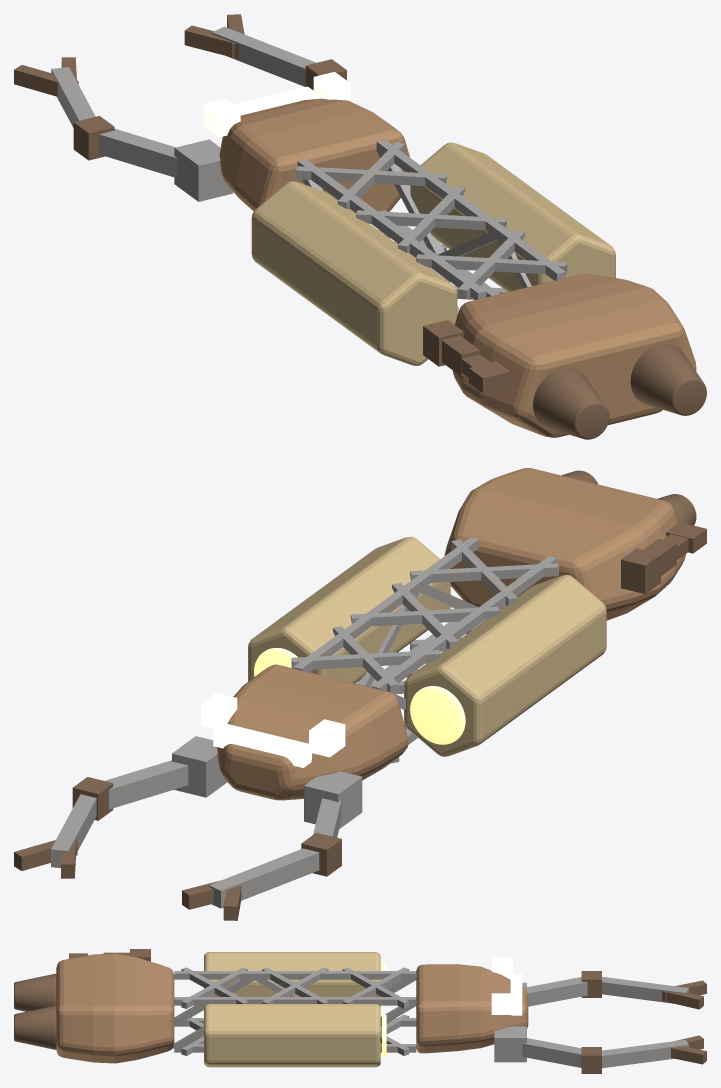
File: terra-nexum-harvester.glb
3 renders of one model, top to bottom at view 1: azimuth 30°, elevation 25°; view 2: azimuth 150°, elevation 25°; view 3: azimuth 270°, elevation 25°, orthographic. The views are drawn at different scales.
Parts seen in each view (by area): view 1: hull.001, Cylinder, hull, Cylinder.002, Cone.001, Cone, Cube.015, Cube.017, Cube.003, Cube.004, Cube.012, Cube.021 (+16 smaller); view 2: hull.001, Cylinder, hull, Cylinder.002, Cube.006, Cylinder.001, Cube.017, Cube.015, Cube.010, Cube.003, Cube.009, Cube (+15 smaller); view 3: hull.001, Cylinder.002, hull, Cylinder, Cube.017, Cone.001, Cube.015, Cube.012, Cone, Cube.006, Cube.004, Cube.010 (+22 smaller).
Boxes of the visible parts, box(x1,y1,x2,y2) form: hull.001: box(452, 274, 696, 437); Cylinder: box(251, 181, 457, 365); hull: box(219, 98, 410, 213); Cylinder.002: box(410, 142, 615, 291); Cone.001: box(630, 344, 706, 415); Cone: box(533, 368, 609, 439); Cube.015: box(376, 139, 565, 280); Cube.017: box(297, 159, 486, 299); Cube.003: box(174, 139, 233, 201); Cube.004: box(99, 129, 177, 178); Cube.012: box(212, 26, 316, 86); Cube.021: box(296, 166, 446, 186); hull.001: box(444, 468, 685, 620); Cylinder: box(404, 574, 606, 756); hull: box(217, 664, 408, 800); Cylinder.002: box(248, 536, 450, 683); Cube.006: box(209, 848, 319, 908); Cylinder.001: box(410, 686, 465, 744); Cube.017: box(371, 556, 557, 691); Cube.015: box(293, 537, 479, 671); Cube.010: box(105, 760, 188, 809); Cube.003: box(304, 771, 362, 828); Cube.009: box(172, 736, 227, 797); Cube: box(213, 723, 311, 767); hull.001: box(56, 953, 174, 1063); Cylinder.002: box(204, 1004, 380, 1067); hull: box(416, 964, 528, 1053); Cylinder: box(204, 952, 380, 1006); Cube.017: box(174, 971, 416, 979); Cone.001: box(14, 1005, 56, 1049); Cube.015: box(174, 997, 416, 1005); Cube.012: box(602, 1039, 688, 1068); Cone: box(14, 973, 56, 1011); Cube.006: box(602, 976, 688, 1003); Cube.004: box(527, 977, 587, 1006); Cube.010: box(522, 1038, 581, 1067).
Bounding box in the file's own units: 1.7 × 0.61 × 5.88.
